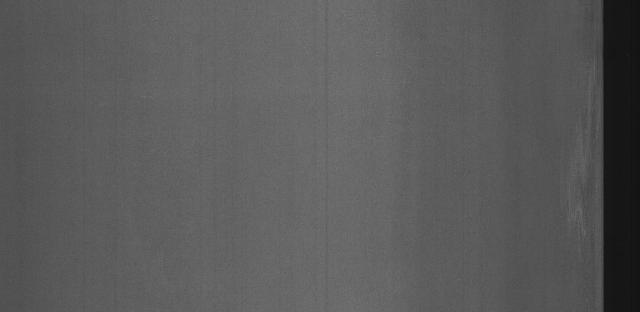silk_spot: (565, 83, 599, 250)
